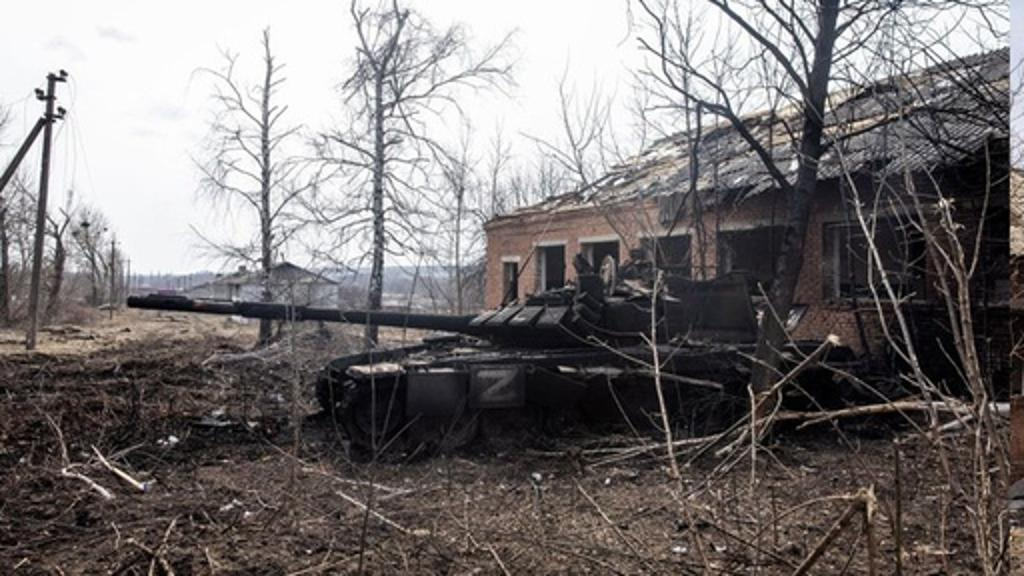TANK: (120, 256, 876, 462)
